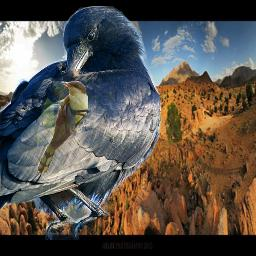Crow: (0, 6, 161, 240)
Cuckoo: (37, 81, 88, 175)
